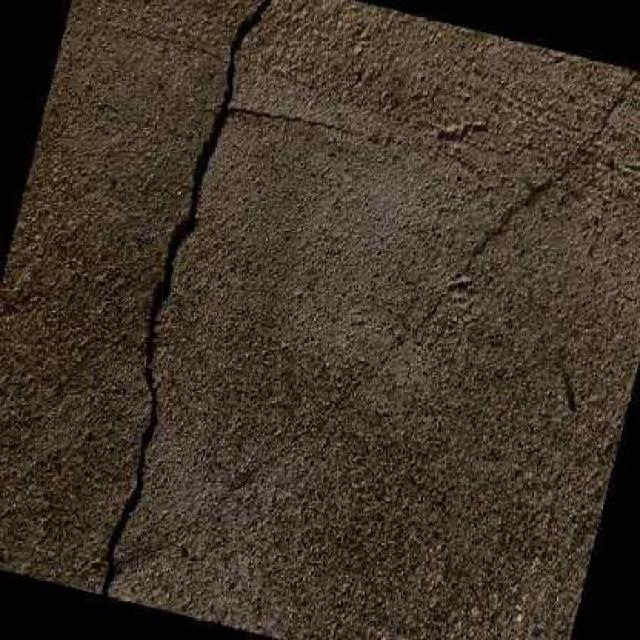D00: (95, 0, 276, 596)
